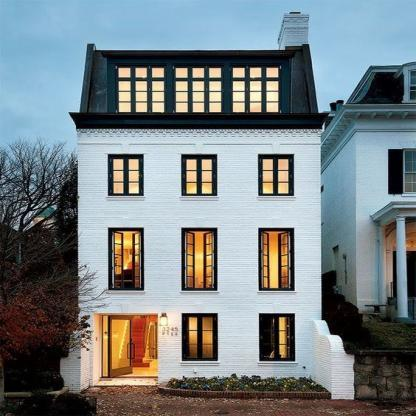Balcony: (93, 313, 159, 386)
Building Outline: (60, 11, 354, 400)
Door: (102, 316, 158, 378)
Facade: (61, 11, 354, 400)
Floor Slab: (78, 209, 322, 218), (78, 304, 322, 313), (78, 135, 322, 143)
Molding: (76, 129, 322, 137)
Roof: (80, 43, 319, 113)
Sill: (258, 362, 297, 366), (107, 291, 146, 295), (181, 362, 220, 366), (257, 196, 296, 200), (107, 196, 146, 200), (180, 196, 219, 200), (257, 291, 296, 295), (180, 291, 219, 295)
Window: (232, 67, 278, 112), (119, 67, 164, 112), (176, 67, 221, 112), (262, 231, 290, 288), (112, 231, 140, 288), (185, 231, 213, 288), (266, 316, 291, 358), (188, 316, 213, 358), (263, 159, 289, 194), (113, 159, 139, 194), (186, 159, 212, 194)
